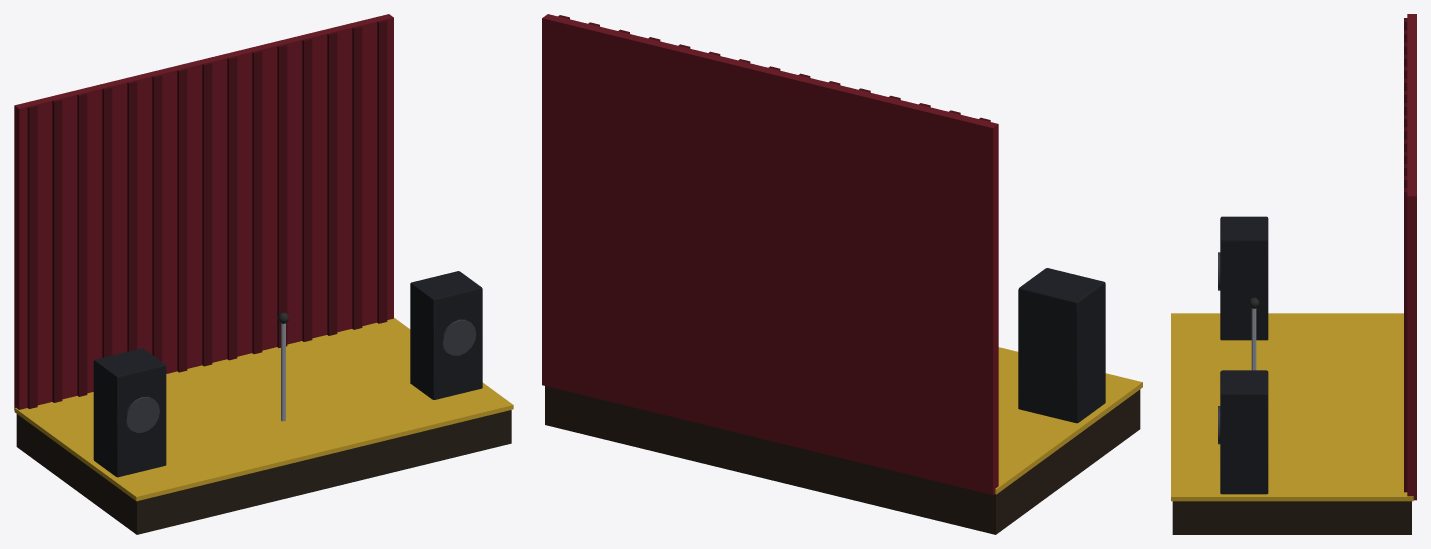
Rendered from stage.glb.
3 renders of one model, left to right at view 1: azimuth 30°, elevation 25°; view 2: azimuth 150°, elevation 25°; view 3: azimuth 270°, elevation 25°, orthographic. The views are drawn at different scales.
Visible parts, largest first — view 1: part-curtain, part-curtain-fold, part-stage-edge, part-stage, part-speaker, part-cone; view 2: part-curtain, part-stage, part-speaker, part-stage-edge; view 3: part-stage-edge, part-speaker, part-stage, part-curtain, part-curtain-fold, part-steel.
Part boxes in pixels (left/top/right/bottom): part-curtain: left=14, top=14, right=393, bottom=410; part-curtain-fold: left=27, top=19, right=387, bottom=408; part-stage-edge: left=14, top=318, right=513, bottom=501; part-stage: left=16, top=410, right=511, bottom=534; part-speaker: left=93, top=271, right=482, bottom=477; part-cone: left=125, top=319, right=476, bottom=432; part-curtain: left=542, top=14, right=998, bottom=494; part-stage: left=545, top=386, right=1140, bottom=534; part-speaker: left=1018, top=268, right=1105, bottom=423; part-stage-edge: left=995, top=347, right=1142, bottom=494; part-stage-edge: left=1171, top=313, right=1413, bottom=501; part-speaker: left=1220, top=216, right=1268, bottom=494; part-stage: left=1172, top=501, right=1411, bottom=534; part-curtain: left=1407, top=14, right=1416, bottom=500; part-curtain-fold: left=1404, top=18, right=1407, bottom=492; part-steel: left=1251, top=308, right=1256, bottom=370.
Size of the model in its own units: 90.6 by 78 by 51.3.
